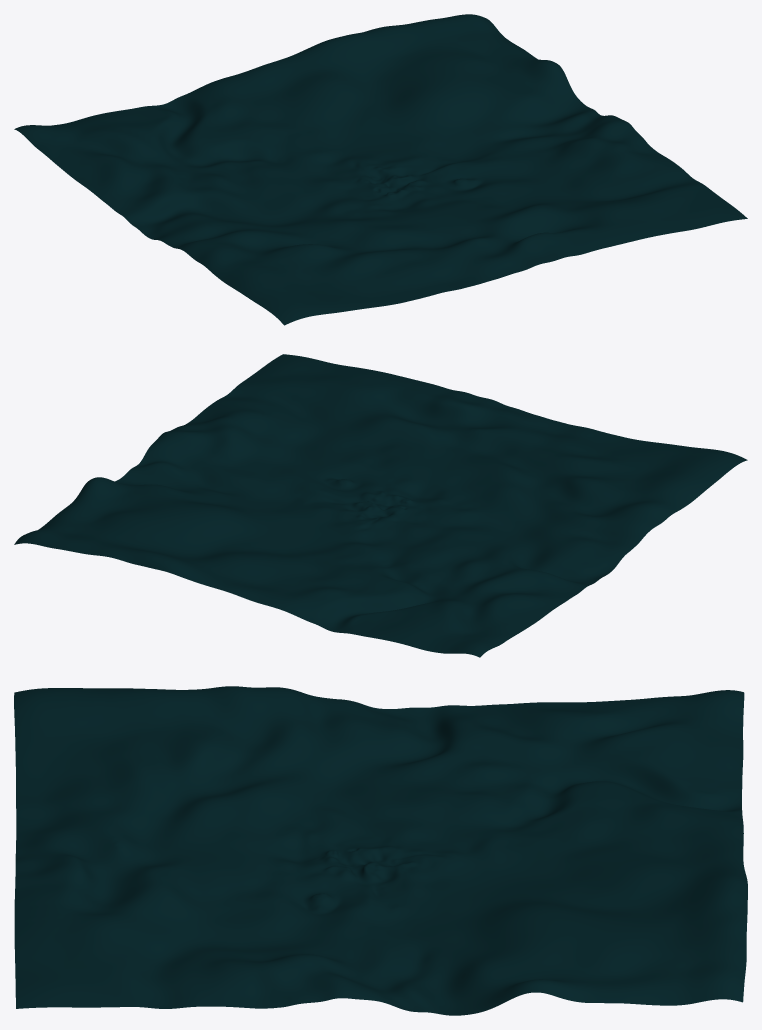
The model's file is Ground_01.fbx.
The picture shows the model from 3 angles, top to bottom: view 1: azimuth 30°, elevation 25°; view 2: azimuth 150°, elevation 25°; view 3: azimuth 270°, elevation 25°; orthographic projection. The views are drawn at different scales.
Visible parts, largest first — view 1: Ground_01.001; view 2: Ground_01.001; view 3: Ground_01.001.
Boxes of the visible parts, left/top/right/bottom form: Ground_01.001: left=14, top=14, right=747, bottom=325; Ground_01.001: left=14, top=354, right=747, bottom=657; Ground_01.001: left=14, top=686, right=747, bottom=1015.
Bounding box in the file's own units: 101089 × 101149 × 6329.
